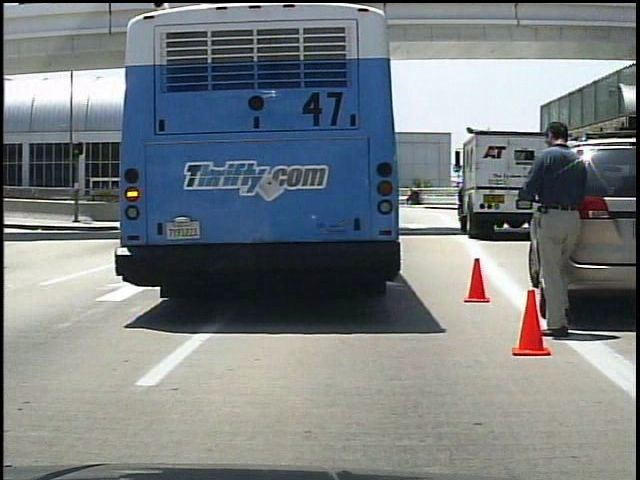person: (513, 117, 608, 345)
